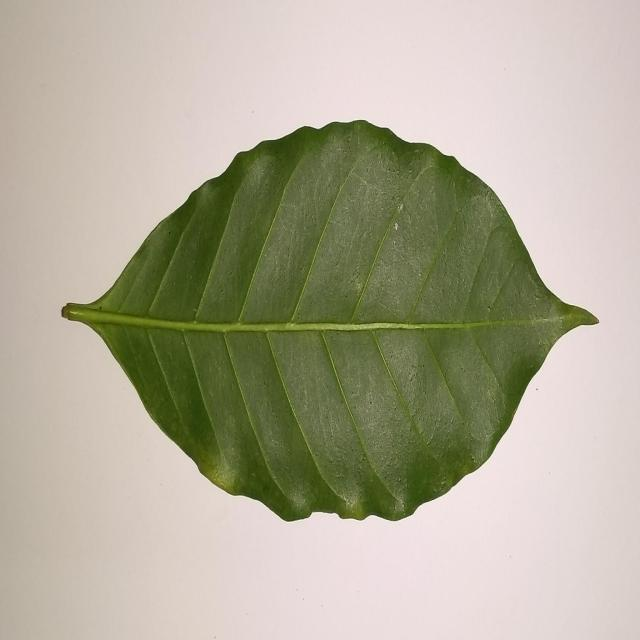nodisease: (62, 120, 598, 521)
